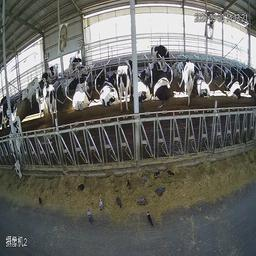cow: (7, 112, 24, 184), (149, 61, 175, 108), (116, 53, 131, 114), (100, 67, 120, 108), (137, 67, 156, 108), (221, 65, 242, 100), (182, 54, 196, 103), (42, 80, 58, 121), (195, 66, 212, 104), (73, 81, 93, 113), (148, 41, 173, 62), (67, 58, 93, 78), (32, 74, 43, 112)
